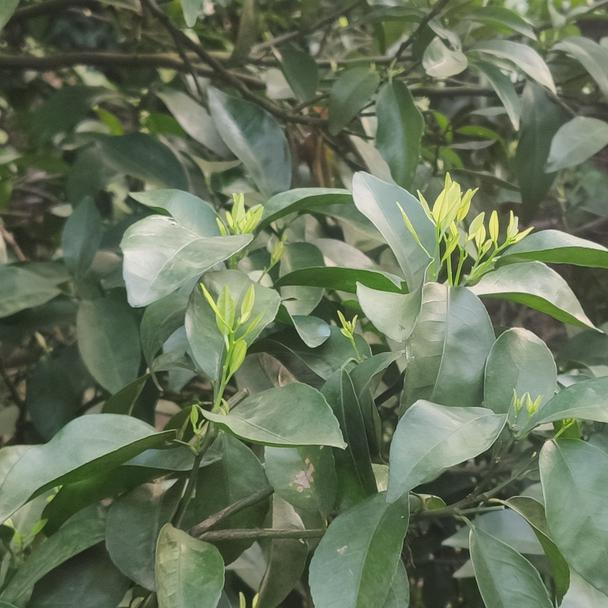shoot: (205, 289, 273, 400), (398, 178, 469, 275), (478, 208, 534, 274)
